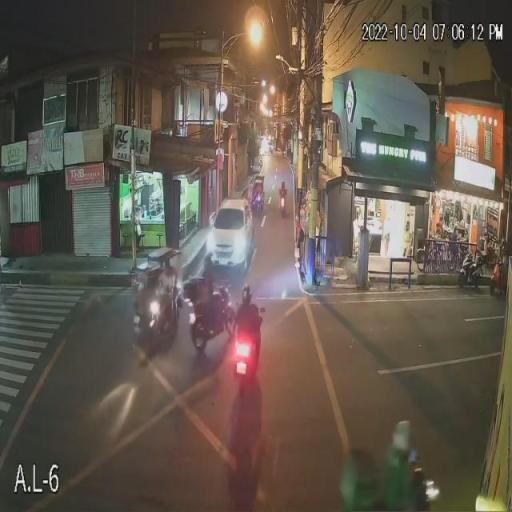helmet: (394, 418, 411, 453), (202, 254, 213, 276), (242, 286, 253, 307), (280, 181, 286, 190)
motorcycle: (364, 470, 443, 508), (189, 285, 233, 349), (233, 328, 259, 391), (149, 300, 181, 350), (277, 196, 289, 212)
rider: (388, 417, 418, 509), (236, 287, 258, 351), (198, 252, 215, 313), (159, 261, 173, 306), (279, 180, 287, 200)
